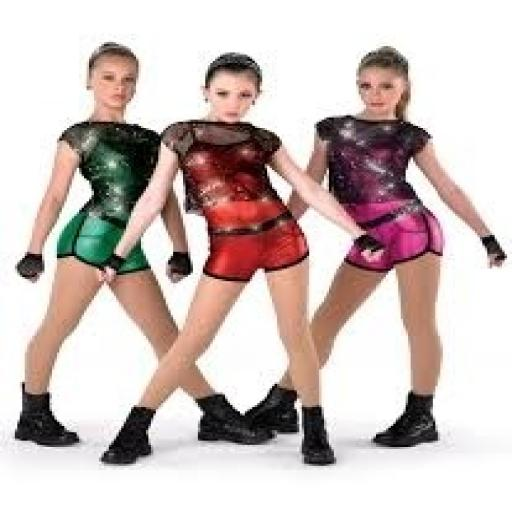dancing: (96, 50, 386, 470), (242, 44, 510, 453), (10, 40, 267, 453)
